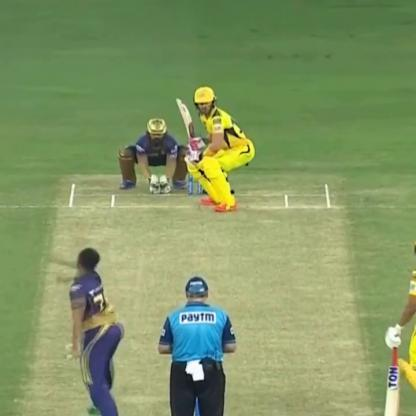ball: (60, 348, 76, 364), (58, 340, 73, 348)
bat: (171, 82, 202, 151)
pitch: (14, 173, 377, 416)
